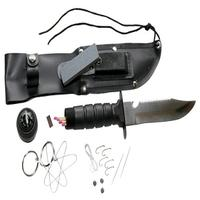knife: (59, 90, 196, 140)
